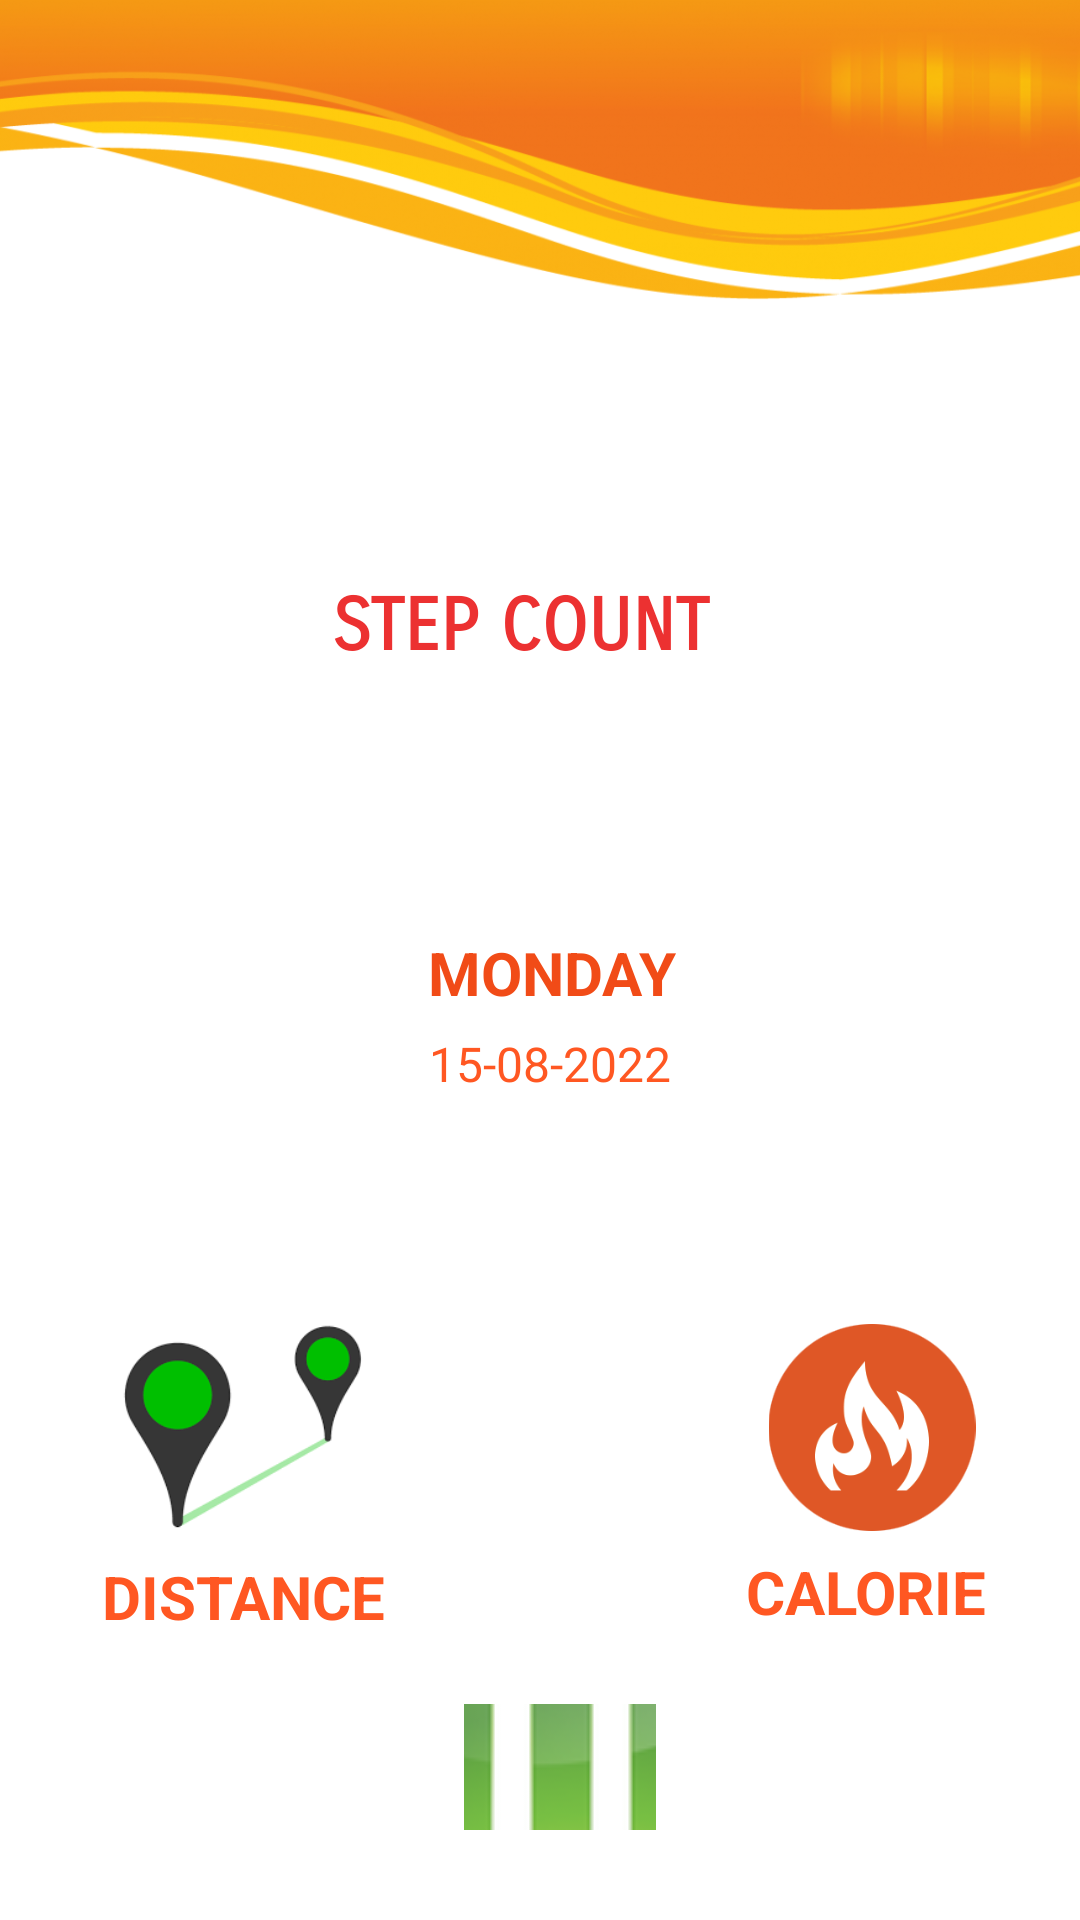

Icon bounding boxes for this 1080px×1920px phone screenshot, format [x1,y1,x2,y2]:
fire: [769,1324,976,1531]
pause: [464,1704,656,1830]
